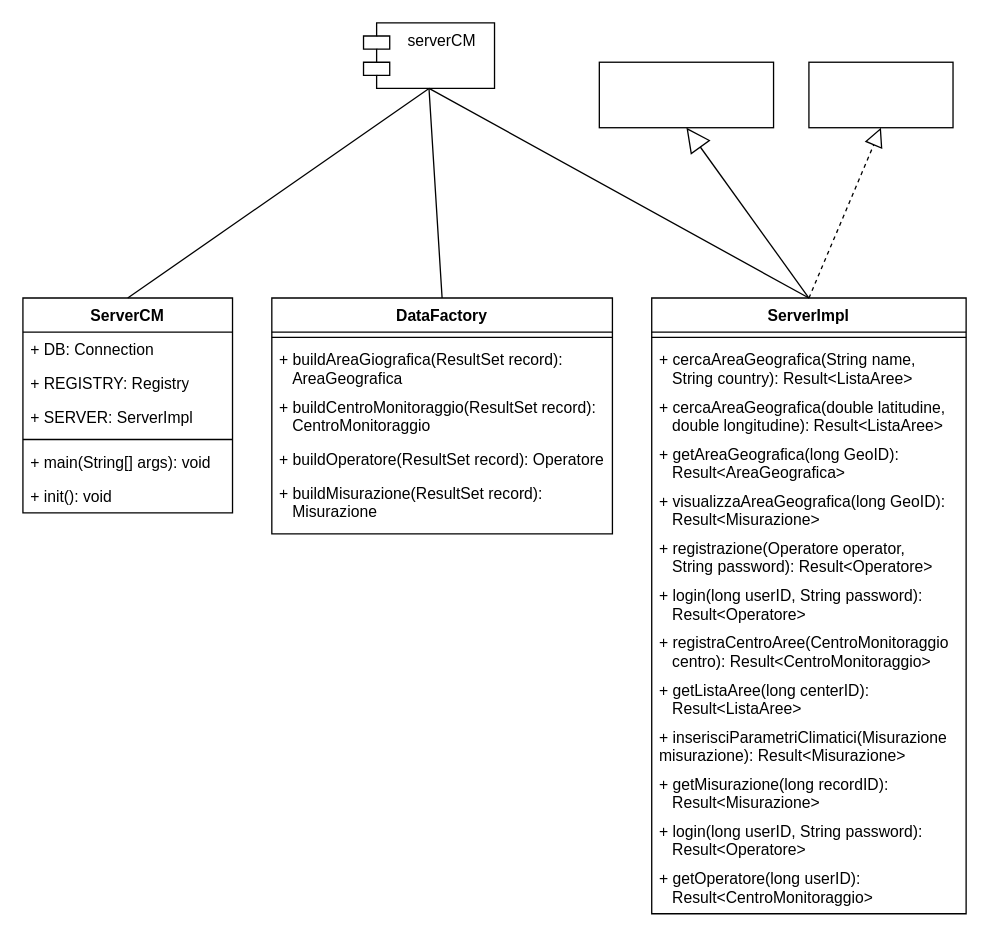
The diagram is 989 pixels wide and 941 high, and some of its shapes have lost their labels. Each missing label, with the centre of its shape:
"UnicastRemoteObject" goes at (x=686, y=94).
"«interface» ServicesCM" goes at (x=880, y=94).
